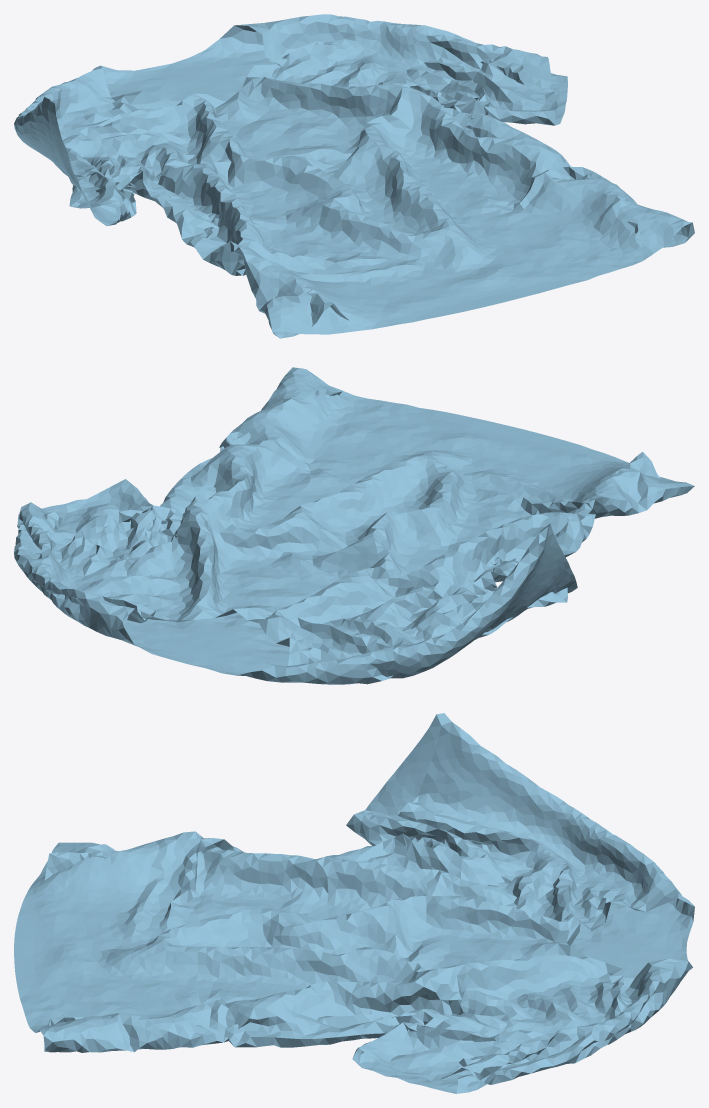
The model's file is frame_05.glb.
3 renders of one model, top to bottom at view 1: azimuth 30°, elevation 25°; view 2: azimuth 150°, elevation 25°; view 3: azimuth 270°, elevation 25°, orthographic. The views are drawn at different scales.
Visible parts, largest first — view 1: frame_05.obj; view 2: frame_05.obj; view 3: frame_05.obj.
Part boxes in pixels (<box>): frame_05.obj: <box>14,14,694,338</box>; frame_05.obj: <box>14,367,694,684</box>; frame_05.obj: <box>14,713,694,1093</box>.
Size of the model in its own units: 1.59 by 0.3404 by 1.72.
